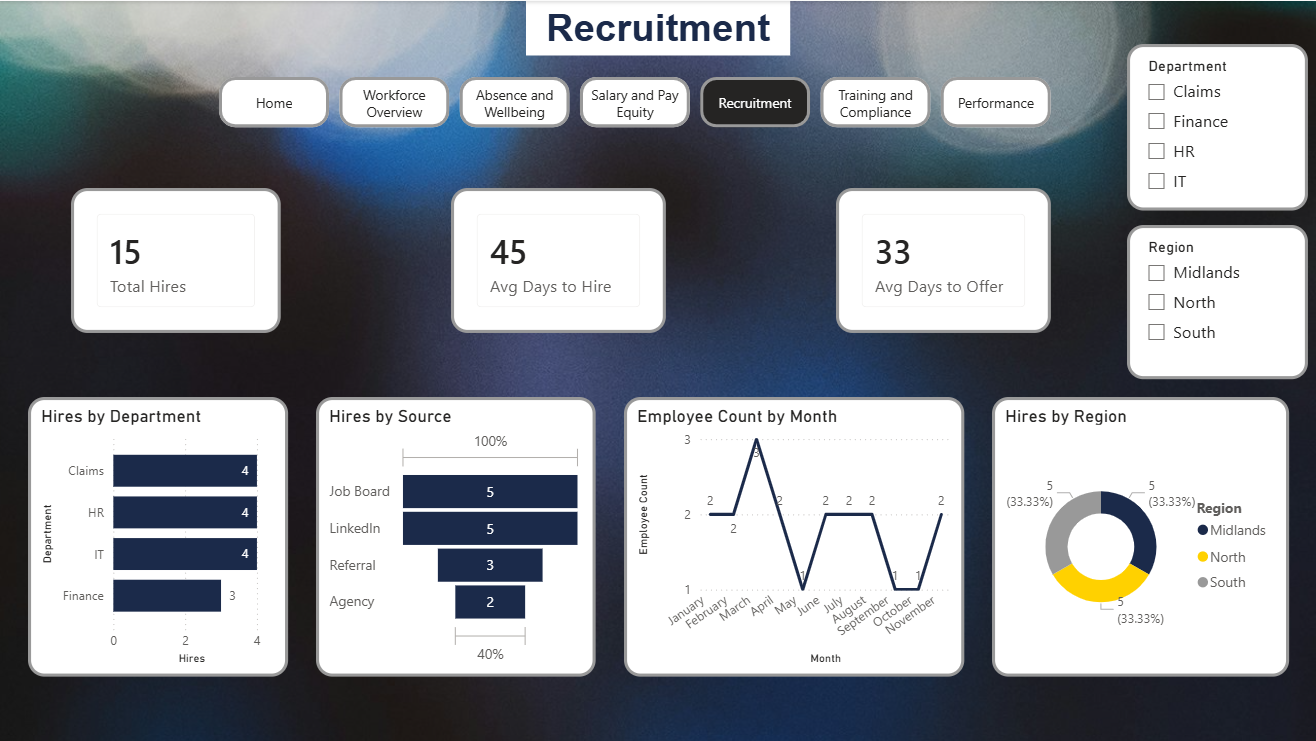

What the dashboard file says about the page in this screenshot:
{"tool":"powerbi","page":{"name":"Recruitment","canvas":[1280,720],"ordinal":4},"visuals":[{"type":"textbox","box":[511.6,0,256.8,53.5],"z":0},{"type":"pageNavigator","box":[341.4,73.9,612.8,49.6],"z":1000},{"type":"cardVisual","fields":{"Data":["CountNonNull(vw_RecruitmentMetrics.RecruitmentID)"]},"box":[69.1,181.9,204.3,149.8],"z":2000},{"type":"cardVisual","fields":{"Data":["Avg(vw_RecruitmentMetrics.DaysToHire)"]},"box":[369.6,181.9,209.1,149.8],"z":3000},{"type":"cardVisual","fields":{"Data":["Avg(vw_RecruitmentMetrics.DaysToOffer)"]},"box":[675,181.9,209.1,149.8],"z":4000},{"type":"clusteredBarChart","fields":{"Y":["CountNonNull(vw_RecruitmentMetrics.JobTitle)"],"Category":["vw_RecruitmentMetrics.Department"]},"box":[69.1,396.8,286.9,193.6],"z":5000},{"type":"clusteredBarChart","fields":{"Category":["vw_RecruitmentMetrics.Source"],"Y":["CountNonNull(vw_RecruitmentMetrics.RecruitmentID)"]},"box":[387.8,396.8,272.3,194.5],"z":6000},{"type":"clusteredBarChart","fields":{"Y":["Avg(vw_RecruitmentMetrics.DaysToHire)"],"Category":["vw_RecruitmentMetrics.Department"]},"box":[691.9,396.8,262.6,195.5],"z":7000},{"type":"donutChart","fields":{"Category":["vw_RecruitmentMetrics.Region"],"Y":["CountNonNull(vw_RecruitmentMetrics.RecruitmentID)"]},"box":[986.3,396.8,286,195.5],"z":8000},{"type":"slicer","fields":{"Values":["vw_RecruitmentMetrics.Department"]},"box":[1096.2,41.8,176,162.4],"z":9000},{"type":"slicer","fields":{"Values":["vw_RecruitmentMetrics.Region"]},"box":[1096.2,217.9,176,149.8],"z":10000}]}

Visuals, with their boxes in screenshot pixels (x1, y1, x2, y2), scaled from the page's 1280x720 canvas onto the 1316x741 screenshot:
textbox: 526,0,790,55
pageNavigator: 351,76,981,127
cardVisual - CountNonNull(vw_RecruitmentMetrics.RecruitmentID): 71,187,281,341
cardVisual - Avg(vw_RecruitmentMetrics.DaysToHire): 380,187,595,341
cardVisual - Avg(vw_RecruitmentMetrics.DaysToOffer): 694,187,909,341
clusteredBarChart - CountNonNull(vw_RecruitmentMetrics.JobTitle) x vw_RecruitmentMetrics.Department: 71,408,366,608
clusteredBarChart - vw_RecruitmentMetrics.Source x CountNonNull(vw_RecruitmentMetrics.RecruitmentID): 399,408,679,609
clusteredBarChart - Avg(vw_RecruitmentMetrics.DaysToHire) x vw_RecruitmentMetrics.Department: 711,408,981,610
donutChart - vw_RecruitmentMetrics.Region x CountNonNull(vw_RecruitmentMetrics.RecruitmentID): 1014,408,1308,610
slicer - vw_RecruitmentMetrics.Department: 1127,43,1308,210
slicer - vw_RecruitmentMetrics.Region: 1127,224,1308,378
